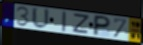3: (16, 6, 30, 27)
7: (113, 17, 128, 39)
I: (62, 11, 67, 33)
P: (92, 15, 112, 37)
U: (31, 7, 51, 31)
Z: (72, 14, 91, 35)
